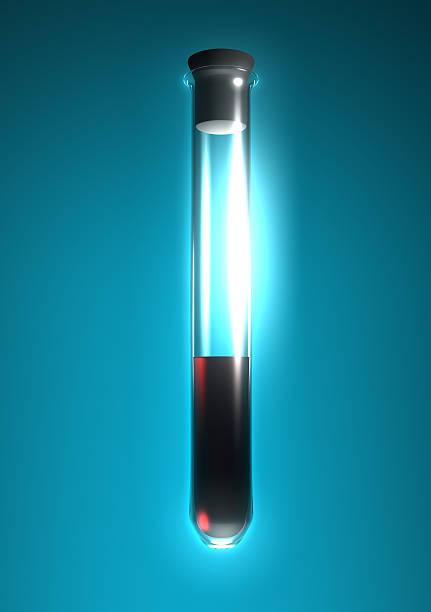Test tube: (174, 46, 258, 546)
